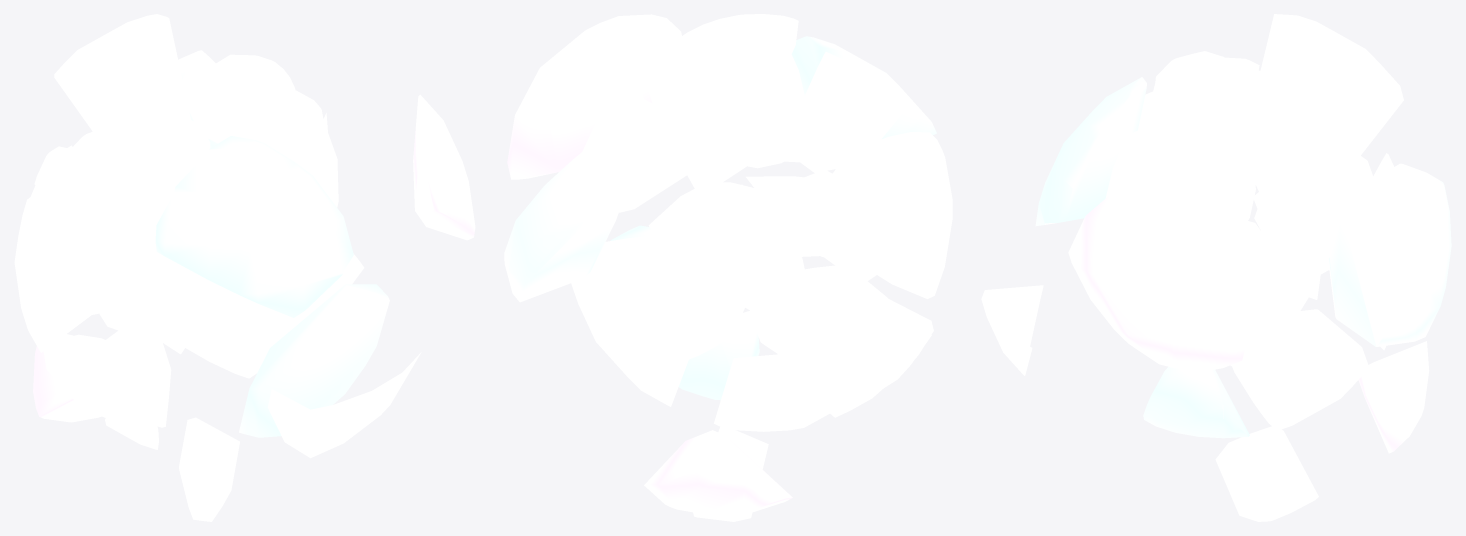
Rendered from abstractball1.2.glb.
3 renders of one model, left to right at view 1: azimuth 30°, elevation 25°; view 2: azimuth 150°, elevation 25°; view 3: azimuth 270°, elevation 25°, orthographic. The views are drawn at different scales.
Visible parts, largest first — view 1: Voronoi_Fracture.1; view 2: Voronoi_Fracture.1; view 3: Voronoi_Fracture.1.
Boxes of the visible parts, x1,y1,x2,y2 form: Voronoi_Fracture.1: (14, 14, 475, 521); Voronoi_Fracture.1: (504, 14, 952, 521); Voronoi_Fracture.1: (981, 14, 1451, 521).
Size of what is drawn, in the model's own units: 3.72 by 4.21 by 3.78.
1 material, 1 textured.
